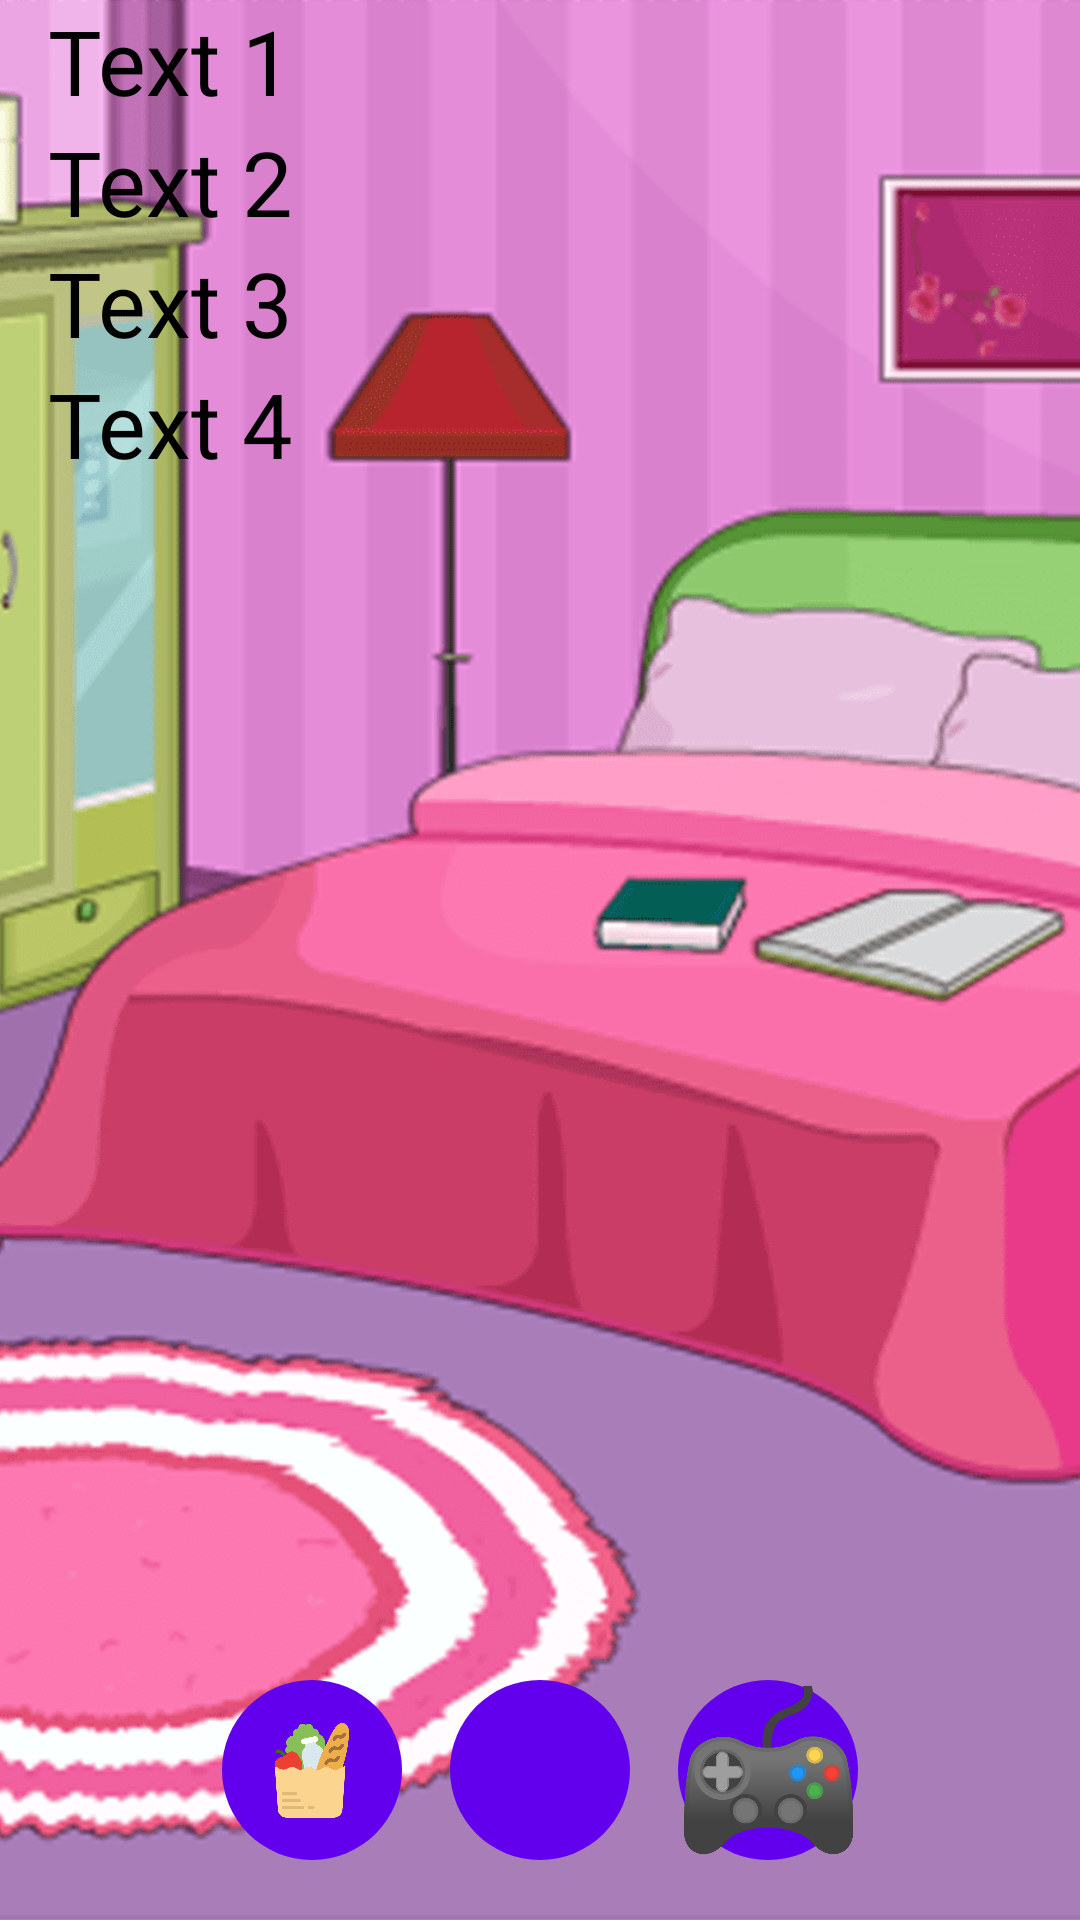

Screen size 1080*1920. Icon name, then its center in pixels as point (x, y):
Food: point (312, 1770)
Game: point (768, 1770)
